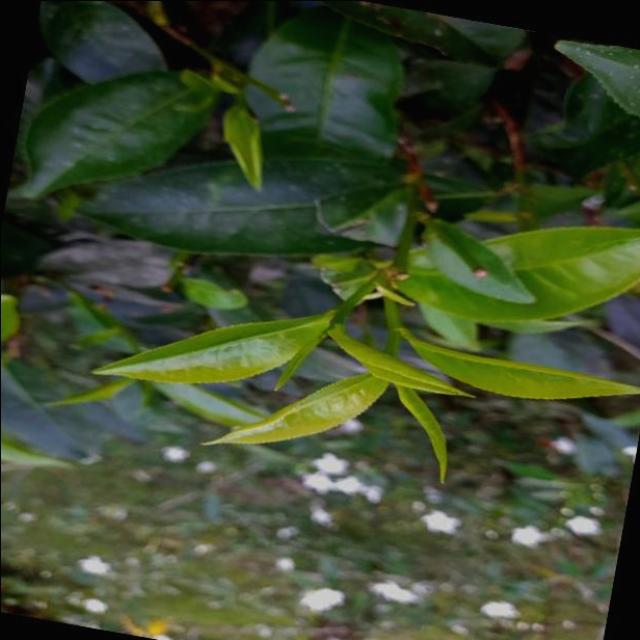Stem: (335, 302, 350, 316), (385, 344, 395, 355)
